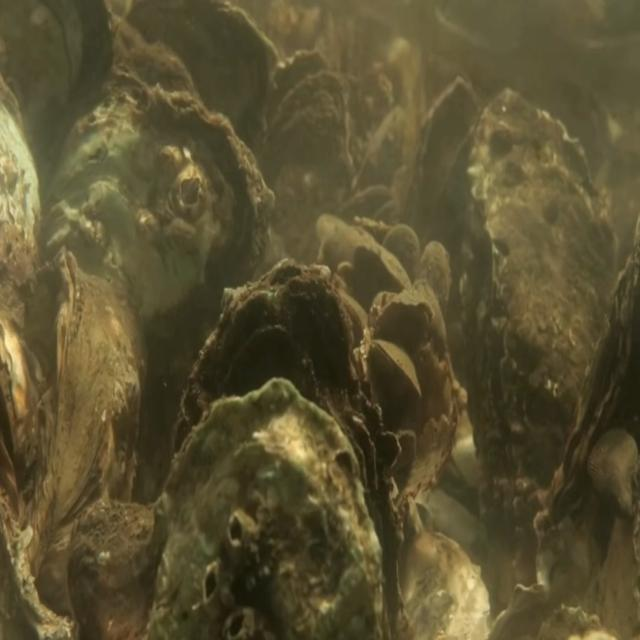Oyster-Closed: (44, 84, 273, 498), (171, 257, 402, 640), (456, 87, 614, 530), (145, 377, 383, 640), (532, 210, 640, 591), (368, 337, 422, 401), (377, 298, 435, 346)
Oyster-Indeterminate: (27, 244, 142, 640), (400, 75, 480, 306), (353, 240, 413, 294), (381, 223, 420, 294), (418, 239, 450, 315)
Oyster-Open: (254, 48, 351, 260)
